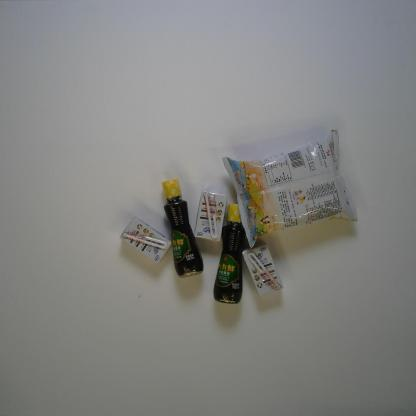Milk: (118, 215, 173, 265), (242, 243, 285, 297), (194, 190, 228, 242)
Puffed Food: (222, 129, 359, 250)
Seasoner: (161, 178, 205, 278), (212, 204, 246, 305)
